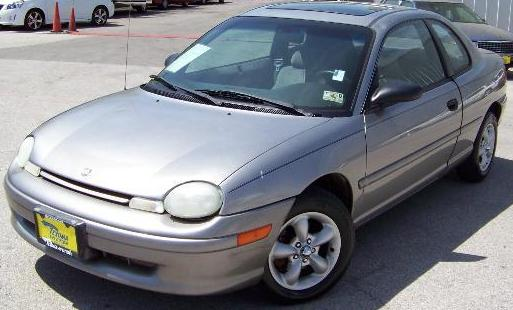front_view: (10, 144, 269, 297)
headlight: (146, 171, 235, 227)
side_glass: (353, 20, 468, 97)
